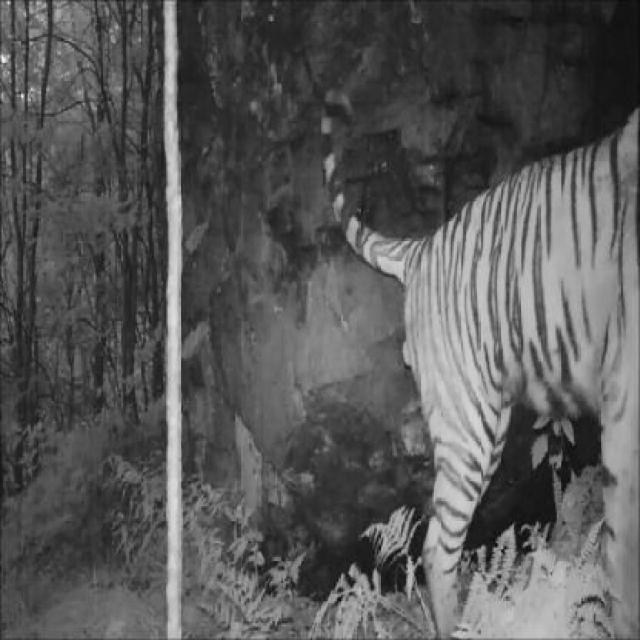Tiger: (318, 86, 638, 602)
